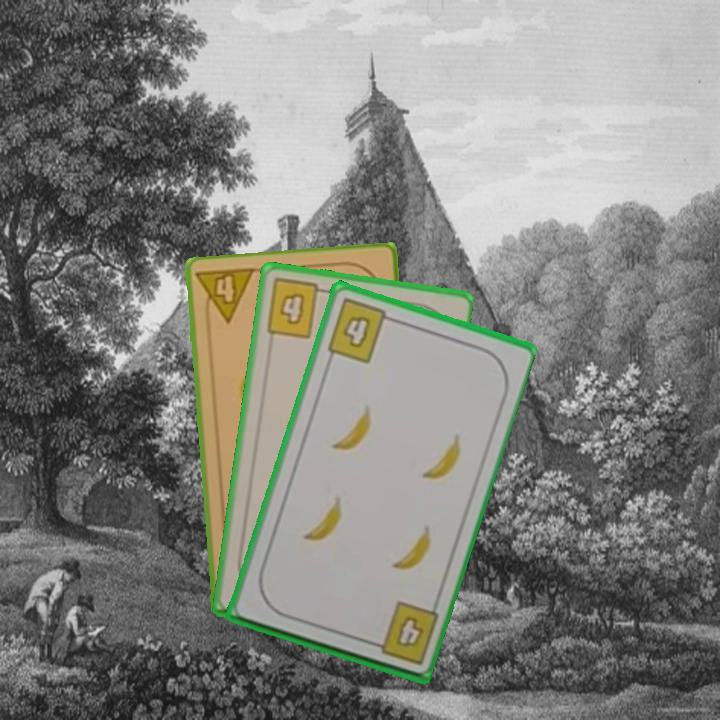4b: (323, 294, 398, 367), (364, 598, 441, 668), (262, 275, 332, 341)
4p: (193, 265, 258, 330)
